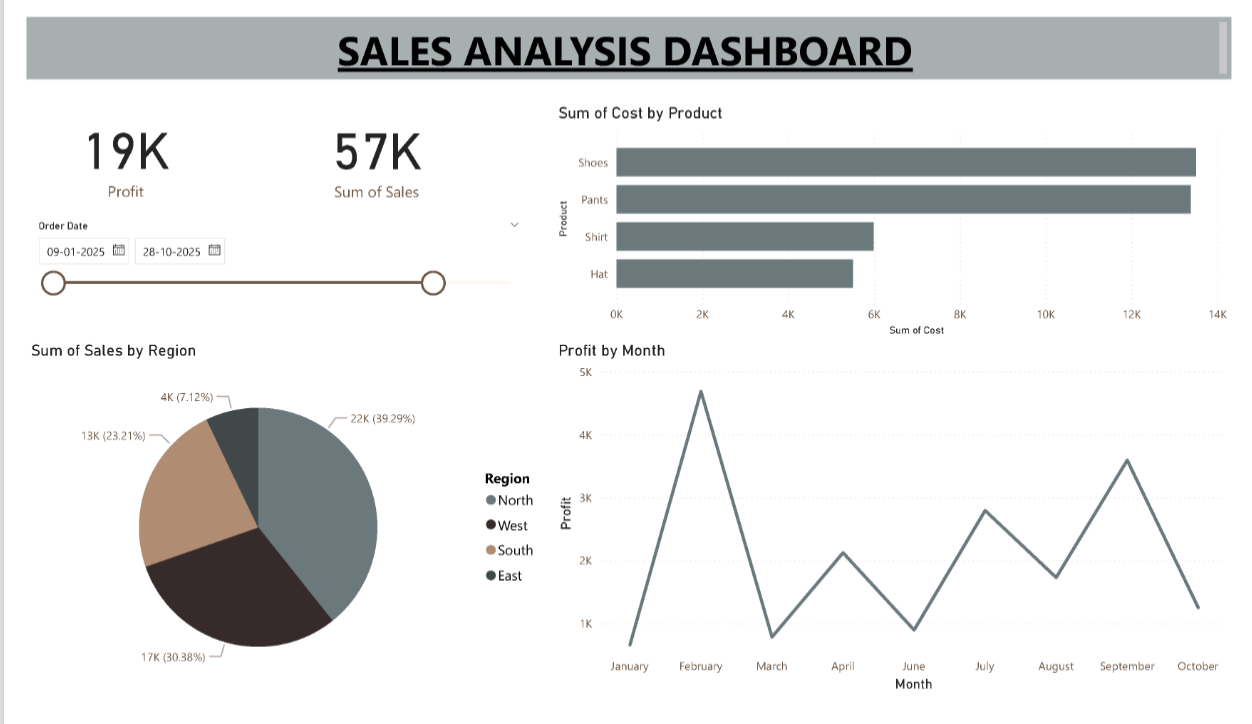

Layout of this report page (visuals, bound fields, positions):
{"tool":"powerbi","page":{"name":"Sales_Analysis","canvas":[1280,720],"ordinal":0},"visuals":[{"type":"pieChart","fields":{"Category":["PowerBI_Large_Synthetic_Dataset.Region"],"Y":["Sum(PowerBI_Large_Synthetic_Dataset.Sales)"]},"box":[0,342.5,560,377.5],"z":0},{"type":"lineChart","fields":{"Category":["PowerBI_Large_Synthetic_Dataset.Order Date.Variation.Date Hierarchy.Month","PowerBI_Large_Synthetic_Dataset.Order Date.Variation.Date Hierarchy.Day"],"Y":["PowerBI_Large_Synthetic_Dataset.Profit"]},"box":[560,342.5,720,377.5],"z":1000},{"type":"barChart","fields":{"Category":["PowerBI_Large_Synthetic_Dataset.Product"],"Y":["Sum(PowerBI_Large_Synthetic_Dataset.Cost)"]},"box":[560,91.2,720,251.2],"z":2000},{"type":"slicer","fields":{"Values":["PowerBI_Large_Synthetic_Dataset.Order Date"]},"box":[0,210,536.2,122.5],"z":3000},{"type":"card","fields":{"Values":["PowerBI_Large_Synthetic_Dataset.Profit"]},"box":[0,81.2,211.2,128.8],"z":4000},{"type":"card","fields":{"Values":["Sum(PowerBI_Large_Synthetic_Dataset.Sales)"]},"box":[225,91.2,293.8,110],"z":5000},{"type":"textbox","box":[0,0,1280,66.2],"z":6000}]}

Visuals, with their boxes in screenshot pixels (x1, y1, x2, y2), scaled from the page's 1280x720 canvas onto the 1252x724 screenshot:
pieChart - PowerBI_Large_Synthetic_Dataset.Region x Sum(PowerBI_Large_Synthetic_Dataset.Sales): 0:344:548:723
lineChart - PowerBI_Large_Synthetic_Dataset.Order Date.Variation.Date Hierarchy.Month x PowerBI_Large_Synthetic_Dataset.Order Date.Variation.Date Hierarchy.Day: 548:344:1251:723
barChart - PowerBI_Large_Synthetic_Dataset.Product x Sum(PowerBI_Large_Synthetic_Dataset.Cost): 548:92:1251:344
slicer - PowerBI_Large_Synthetic_Dataset.Order Date: 0:211:524:334
card - PowerBI_Large_Synthetic_Dataset.Profit: 0:82:207:211
card - Sum(PowerBI_Large_Synthetic_Dataset.Sales): 220:92:507:202
textbox: 0:0:1251:67
